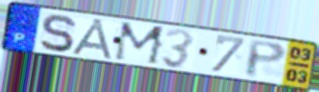3: (160, 28, 199, 70)
7: (212, 33, 247, 74)
A: (68, 17, 117, 61)
M: (111, 21, 168, 68)
P: (245, 38, 289, 79)
S: (38, 13, 77, 53)
